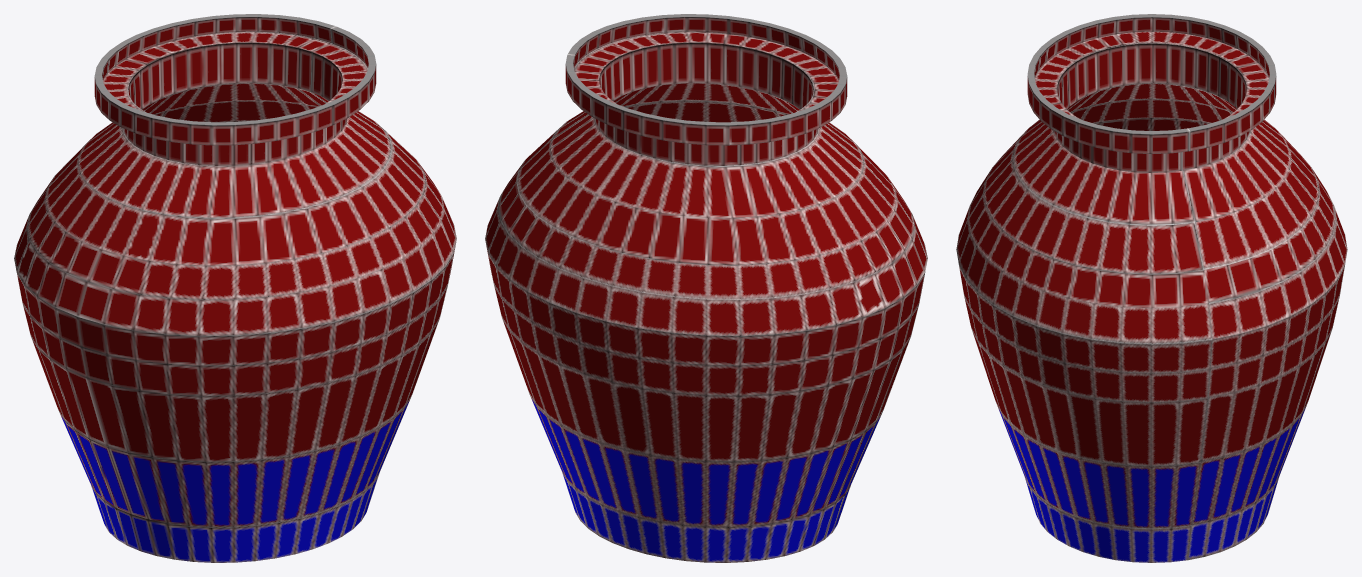
The model's file is pitcher1.obj.
The picture shows the model from 3 angles, left to right: view 1: azimuth 30°, elevation 25°; view 2: azimuth 150°, elevation 25°; view 3: azimuth 270°, elevation 25°; orthographic projection. The views are drawn at different scales.
Parts seen in each view (by area): view 1: Circle; view 2: Circle; view 3: Circle.
Part boxes in pixels (left/top/right/bottom): Circle: left=14, top=14, right=456, bottom=562; Circle: left=485, top=14, right=927, bottom=562; Circle: left=956, top=14, right=1347, bottom=562.
Size of the model in its own units: 2.37 by 2.53 by 2.07.
Materials: 1 (1 with a texture image).
